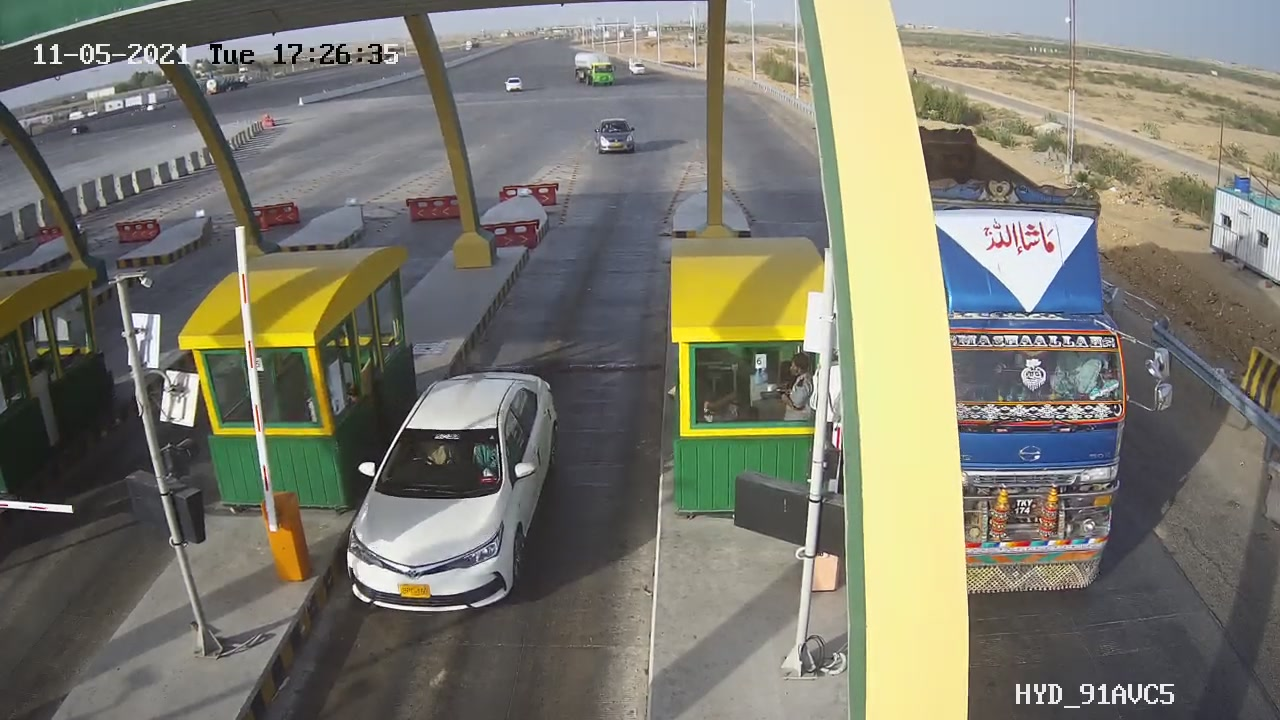F1: (330, 351, 574, 629)
